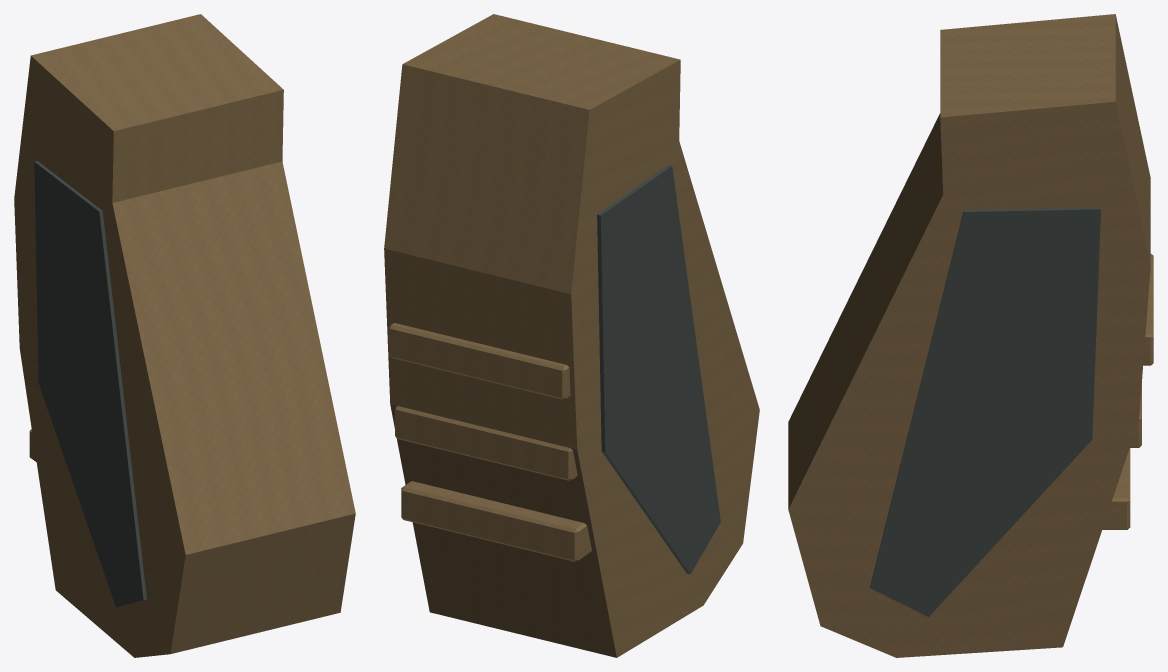
The model's file is m17_grip.glb.
3 renders of one model, left to right at view 1: azimuth 30°, elevation 25°; view 2: azimuth 150°, elevation 25°; view 3: azimuth 270°, elevation 25°, orthographic. The views are drawn at different scales.
Visible parts, largest first — view 1: m17_grip_item_profile, m17_grip_item_profile.001, m17_grip_molded_panel; view 2: m17_grip_item_profile, m17_grip_item_profile.001, m17_grip_molded_panel; view 3: m17_grip_item_profile, m17_grip_item_profile.001, m17_grip_molded_panel.
Part boxes in pixels (box(x1,y1,x2,y2)): m17_grip_item_profile: box(16, 40, 348, 649); m17_grip_item_profile.001: box(14, 14, 355, 657); m17_grip_molded_panel: box(34, 161, 146, 607); m17_grip_item_profile: box(389, 17, 756, 650); m17_grip_item_profile.001: box(384, 14, 759, 657); m17_grip_molded_panel: box(597, 165, 720, 574); m17_grip_item_profile: box(791, 18, 1153, 644); m17_grip_item_profile.001: box(788, 14, 1150, 657); m17_grip_molded_panel: box(870, 207, 1100, 616).
Size of the model in its own units: 0.0738 by 0.21 by 0.125.
Materials: 2 (1 with a texture image).
